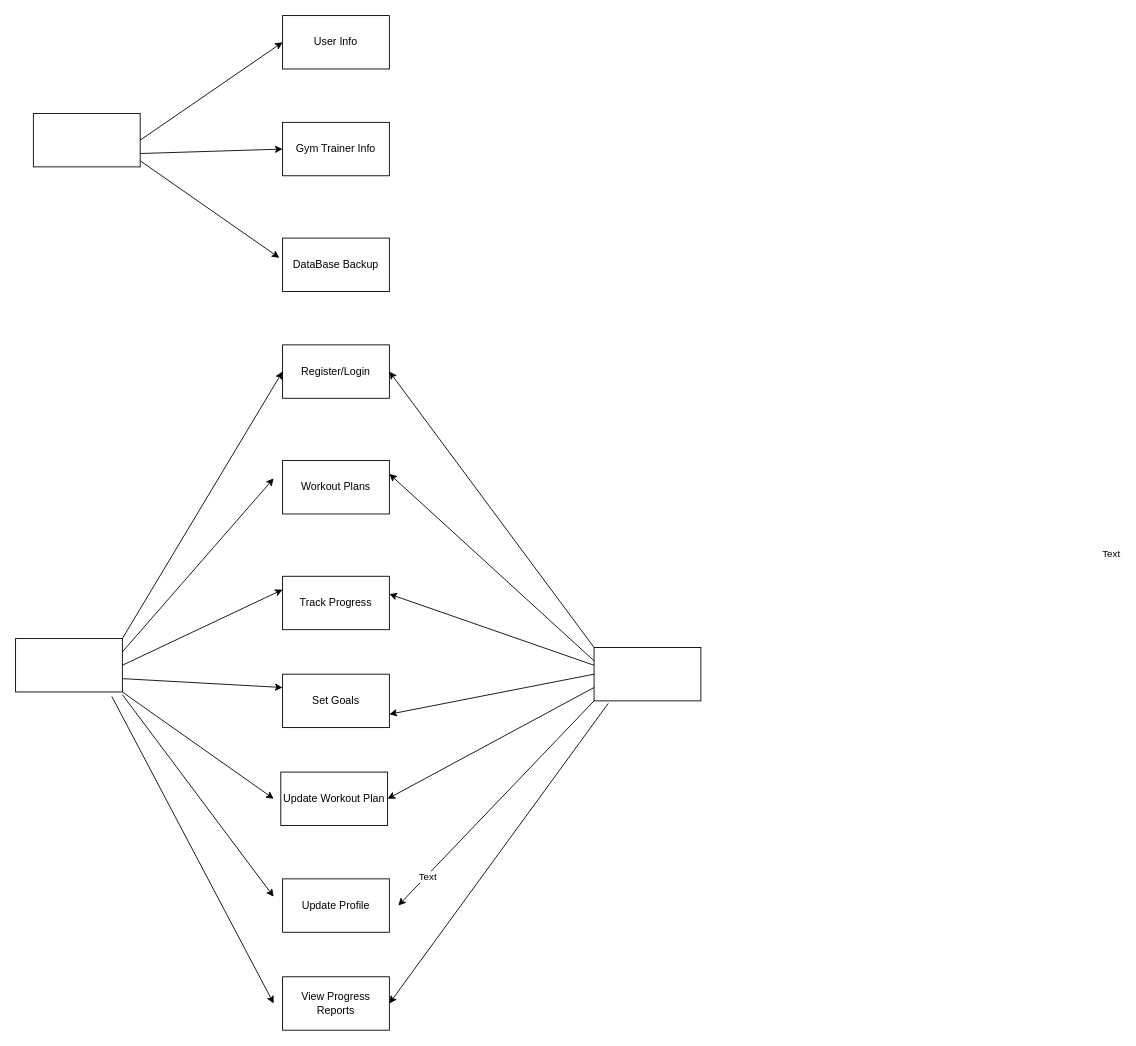
Some shapes in this 1136 by 1046 pixel diagram are drawn without their labels. The shapes that lost their labels are listed below. From the top down, each one's centre as x and y in pixels, then its label:
At (x=86, y=140): "Admin".
At (x=68, y=665): "USER".
At (x=647, y=674): "Gym Trainer".
